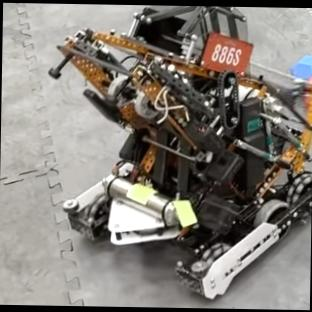Robot: (48, 5, 312, 298)
